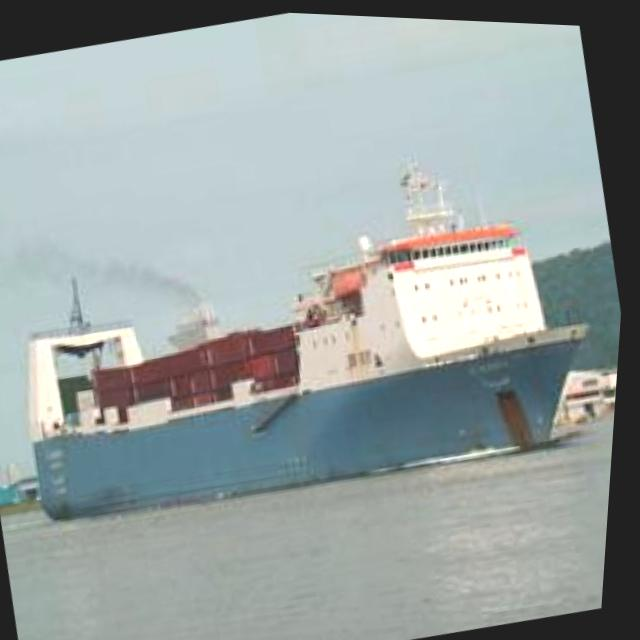ship2: (32, 156, 593, 522)
